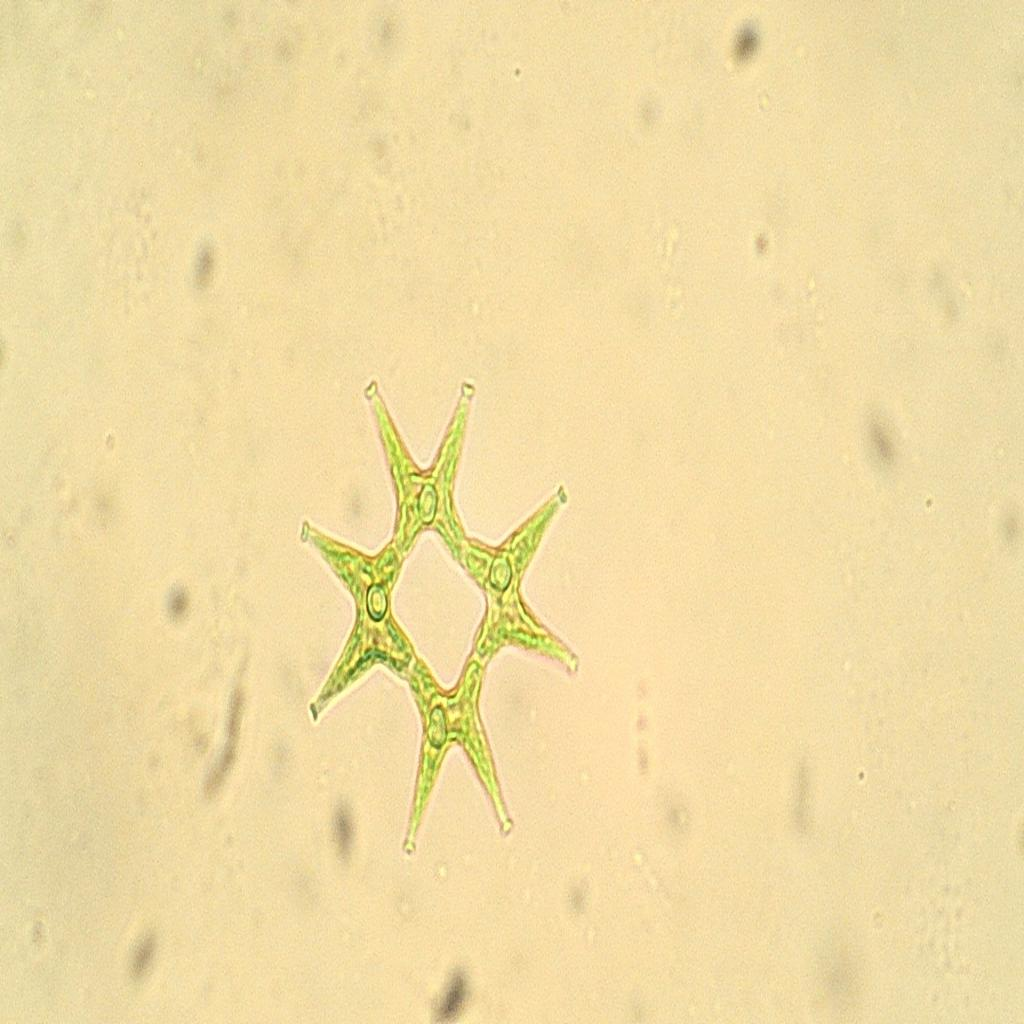Pediastrum_CO: (280, 361, 590, 872)
